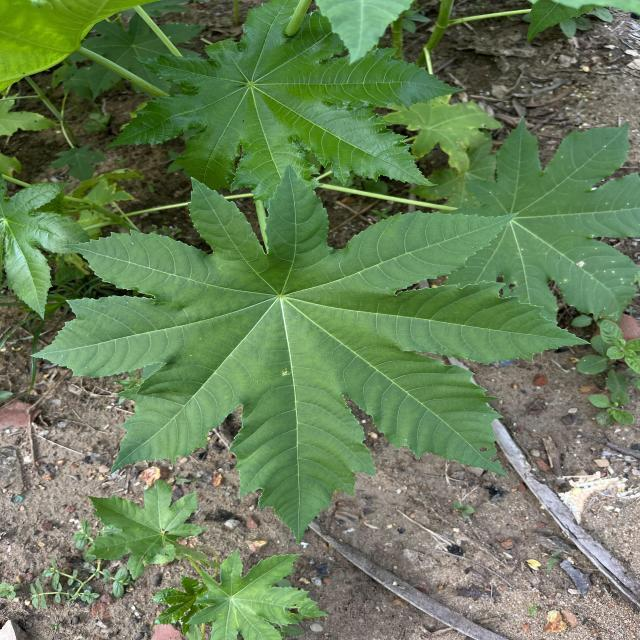Ricinus communis linn: (24, 158, 597, 548)
